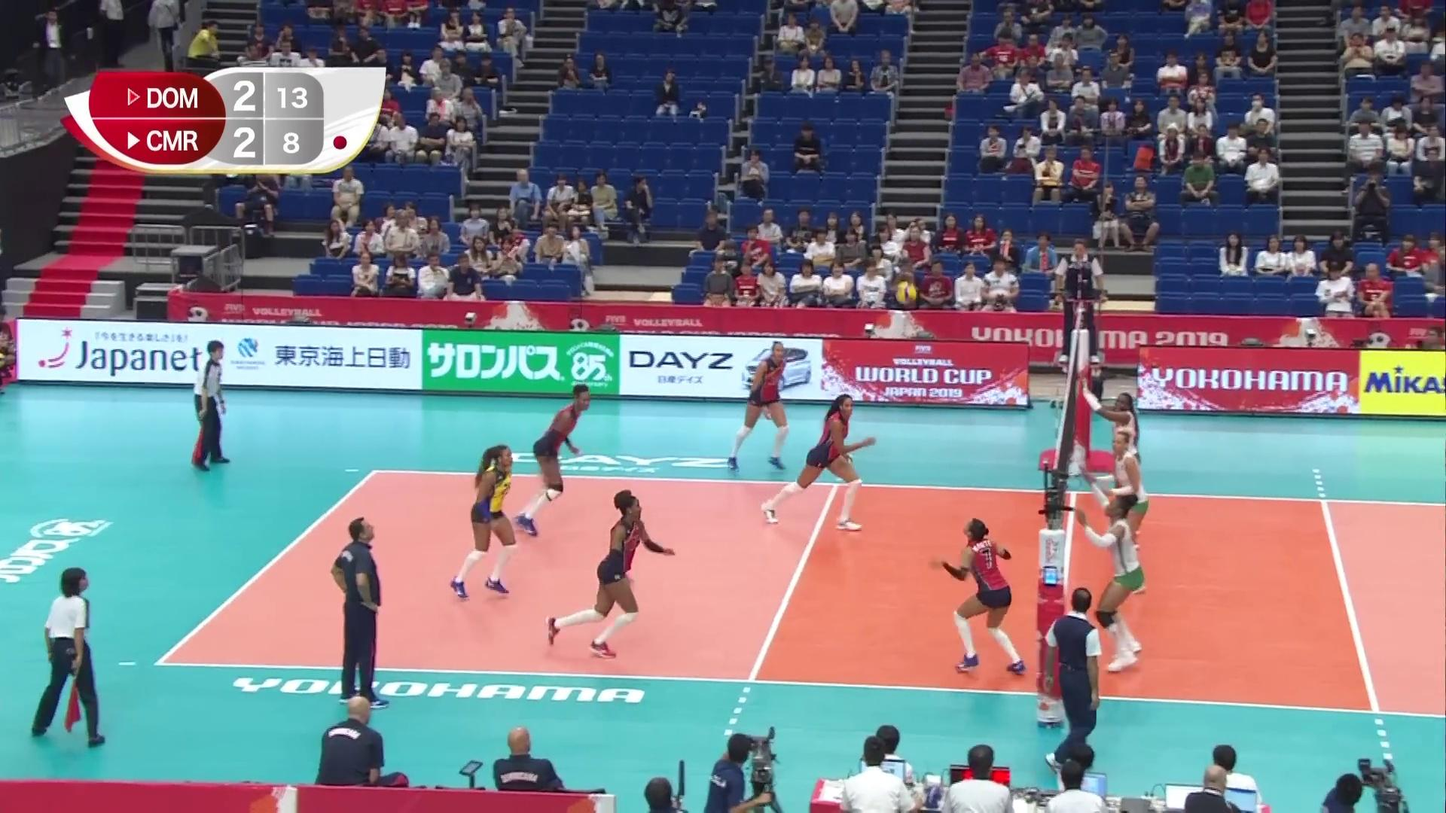player: (545, 488, 677, 658), (762, 394, 873, 528), (940, 520, 1022, 673), (449, 443, 516, 603), (523, 387, 590, 541), (1090, 495, 1145, 677), (731, 342, 798, 469), (1096, 389, 1146, 553), (1105, 433, 1149, 590)
refree: (32, 565, 110, 746), (1042, 587, 1103, 772), (1053, 239, 1105, 366), (193, 340, 231, 469)
